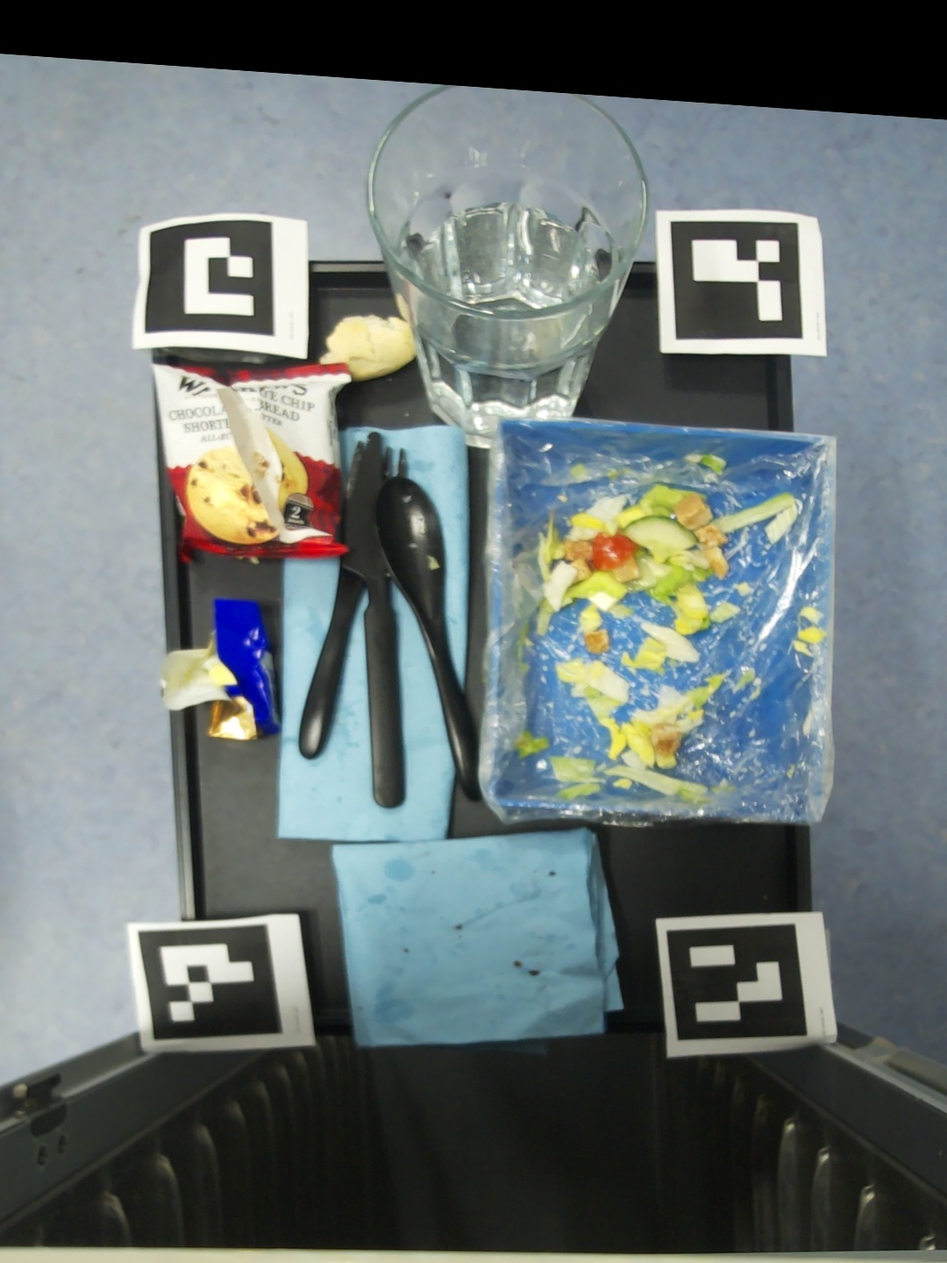bread_roll: (319, 313, 416, 382)
butter: (159, 598, 281, 740)
cookie: (150, 363, 352, 563)
salad_main: (537, 482, 799, 676), (555, 657, 731, 804), (551, 756, 606, 801), (797, 606, 827, 644), (515, 622, 535, 675), (516, 731, 549, 762), (684, 455, 728, 476), (711, 776, 737, 793), (569, 463, 588, 480), (792, 641, 812, 656), (737, 581, 752, 597), (607, 470, 620, 480), (787, 763, 794, 780), (596, 761, 607, 771), (558, 496, 568, 503)
water_bottle: (367, 85, 649, 449)
